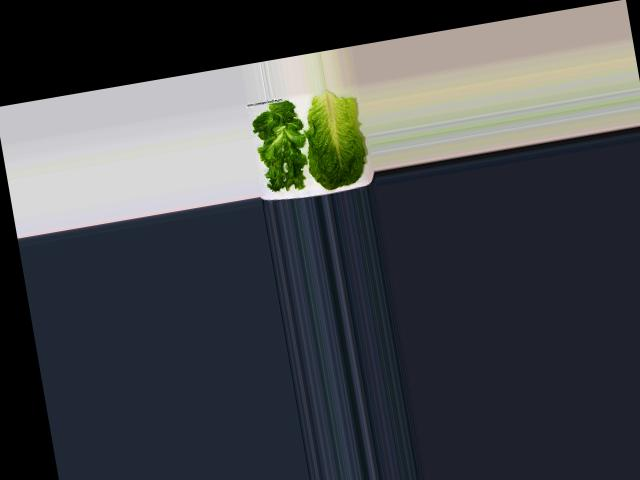lettuce: (244, 101, 311, 196)
